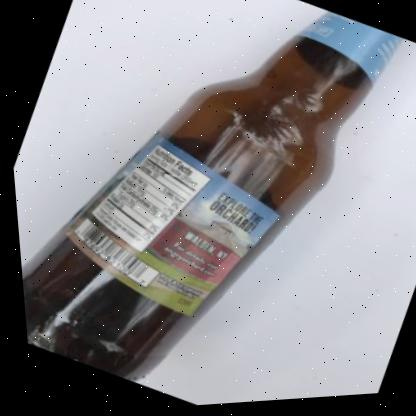Glass: (18, 16, 401, 383)
